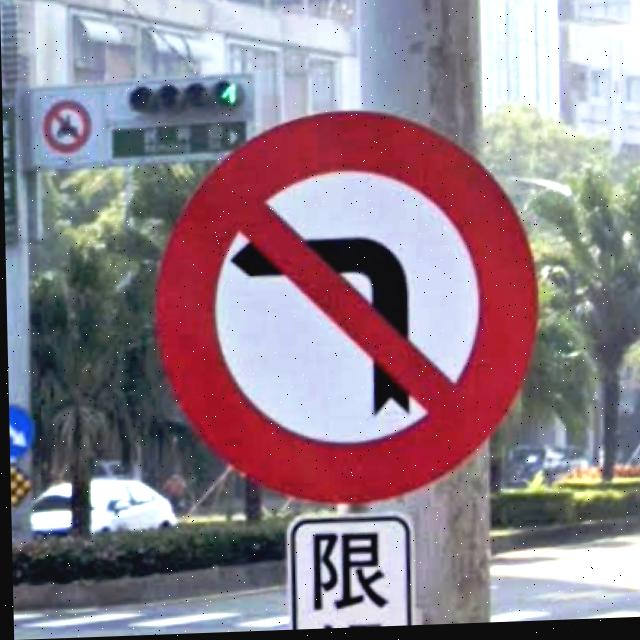noturnleft: (152, 115, 537, 510)
